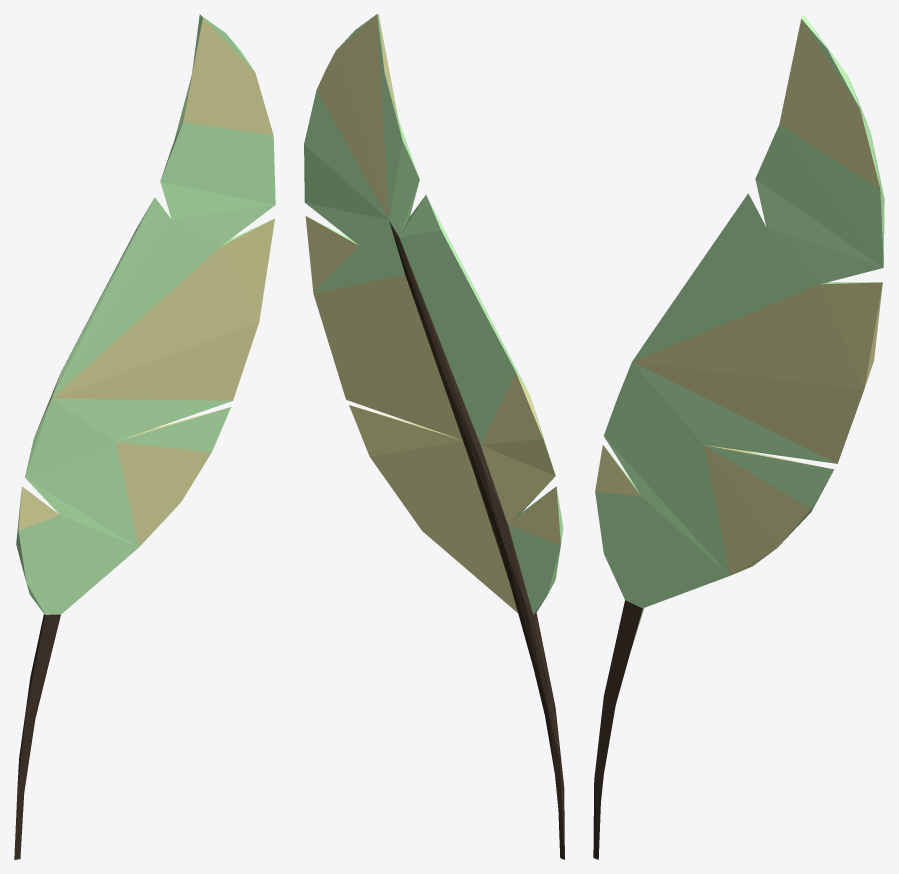
Rendered from Pluma.fbx.
3 renders of one model, left to right at view 1: azimuth 30°, elevation 25°; view 2: azimuth 150°, elevation 25°; view 3: azimuth 330°, elevation 25°, orthographic. The views are drawn at different scales.
Parts seen in each view (by area): view 1: Pluma; view 2: Pluma; view 3: Pluma.
Part boxes in pixels (<box>): Pluma: <box>14,14,275,859</box>; Pluma: <box>304,14,564,859</box>; Pluma: <box>593,14,884,859</box>.
Size of the model in its own units: 4996 by 14654 by 171.
